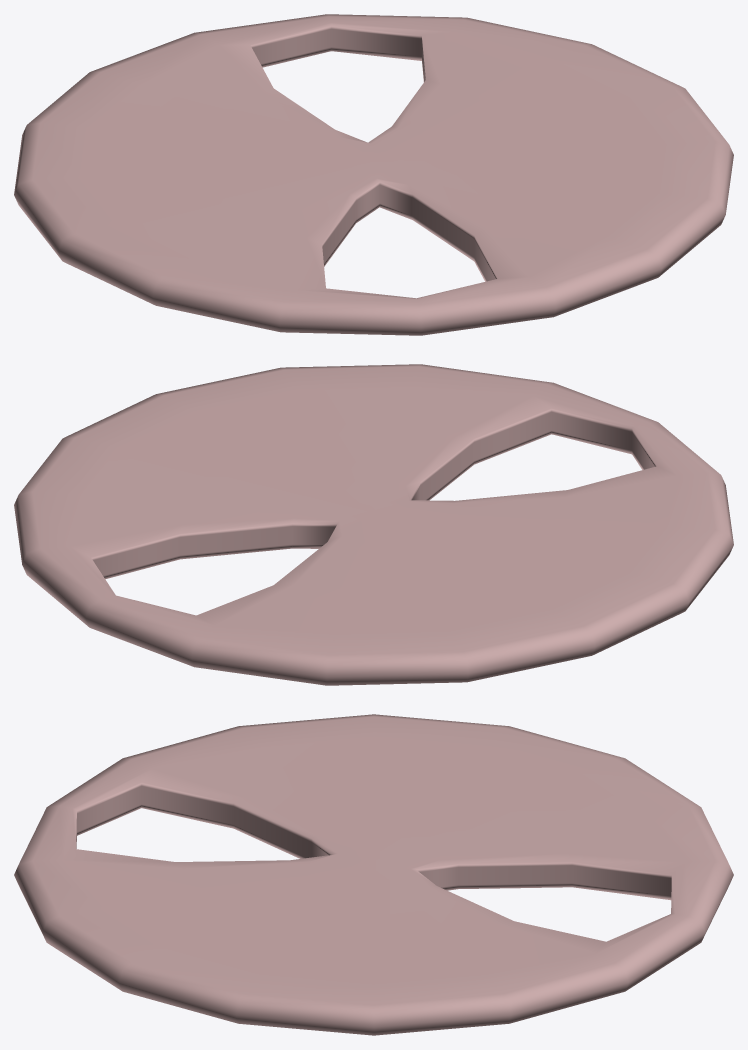
File: Cap.fbx
3 renders of one model, top to bottom at view 1: azimuth 30°, elevation 25°; view 2: azimuth 150°, elevation 25°; view 3: azimuth 270°, elevation 25°, orthographic.
Visible parts, largest first — view 1: cap; view 2: cap; view 3: cap.
Boxes of the visible parts, box(x1,y1,x2,y2) form: cap: box(14, 14, 733, 335); cap: box(14, 364, 733, 685); cap: box(14, 714, 733, 1035).
Bounding box in the file's own units: 0.5856 × 0.0251 × 0.5856.
